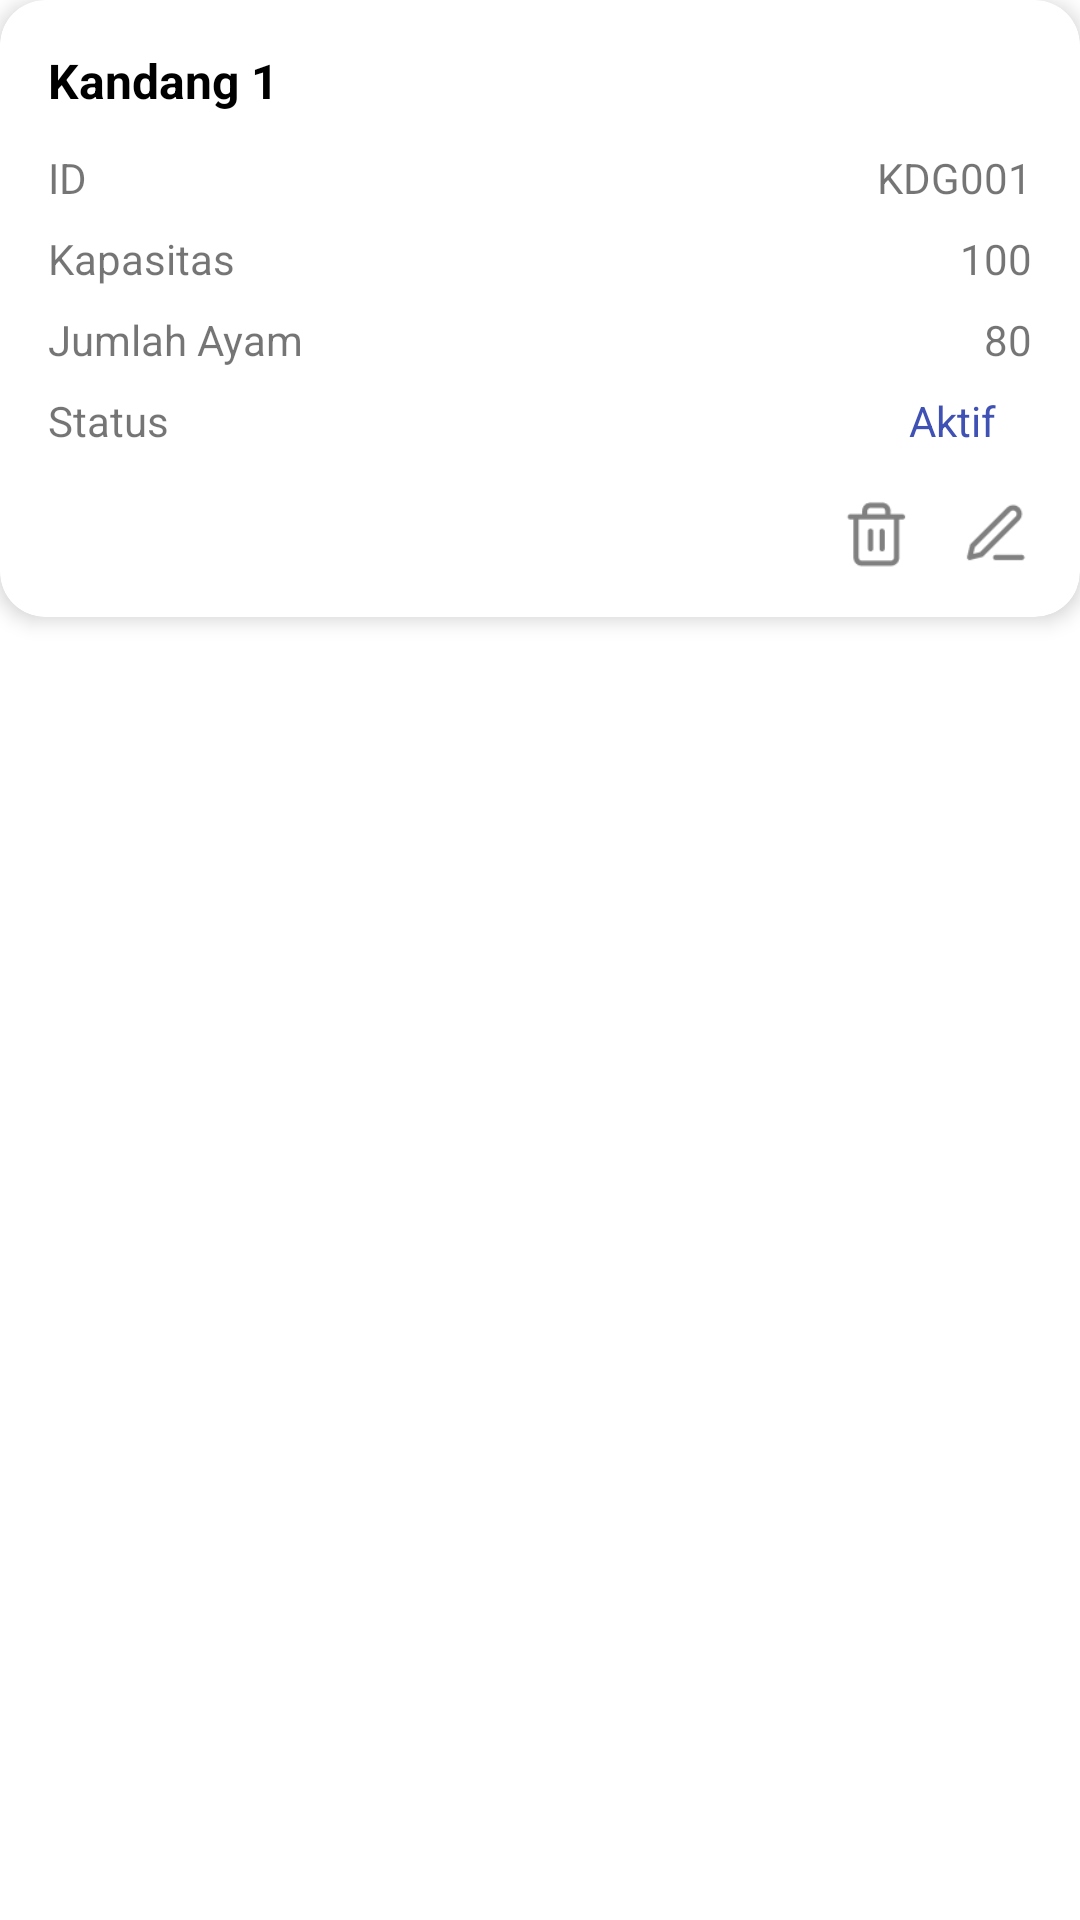

Locate icon controls on the screen. Image size 1080w x 1920h, boxes as (x1, y1, x2, y2).
delete: (847, 502, 905, 567)
edit: (967, 504, 1025, 561)
